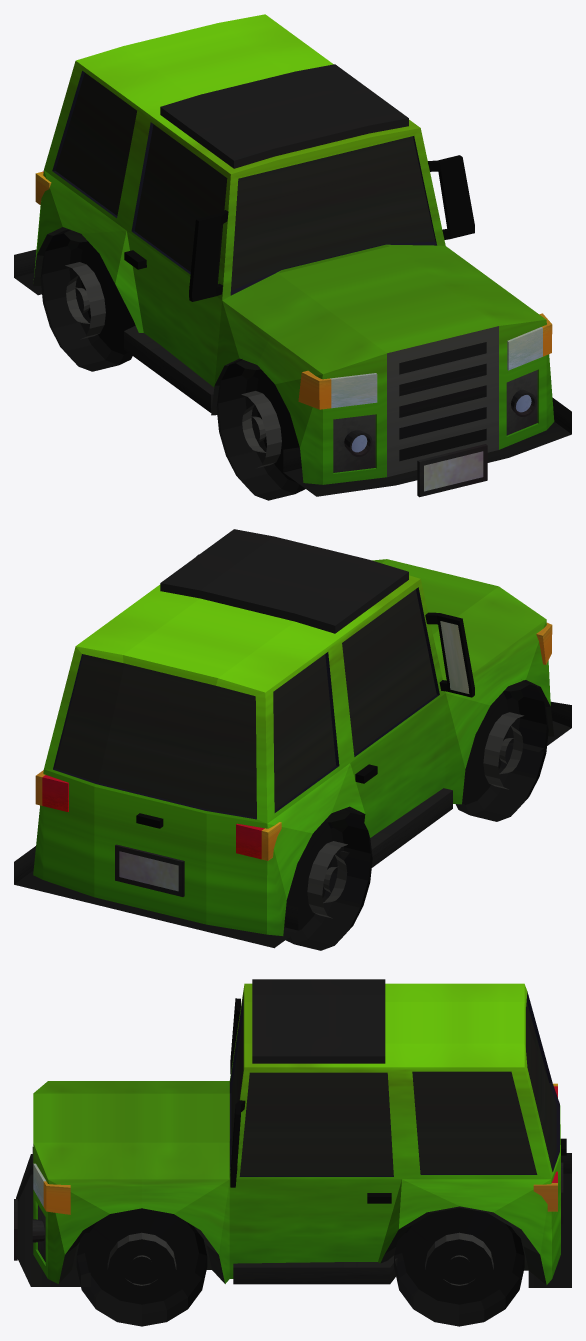
Rendered from vehicle005.glb.
3 renders of one model, top to bottom at view 1: azimuth 30°, elevation 25°; view 2: azimuth 150°, elevation 25°; view 3: azimuth 270°, elevation 25°, orthographic. The views are drawn at different scales.
Parts seen in each view (by area): view 1: vehicle043; view 2: vehicle043; view 3: vehicle043.
Boxes of the visible parts, x1,y1,x2,y2 form: vehicle043: (14, 14, 571, 500); vehicle043: (14, 529, 571, 950); vehicle043: (14, 979, 571, 1326).
Bounding box in the file's own units: 2.98 × 2.84 × 5.65.
Materials: 1 (1 with a texture image).
